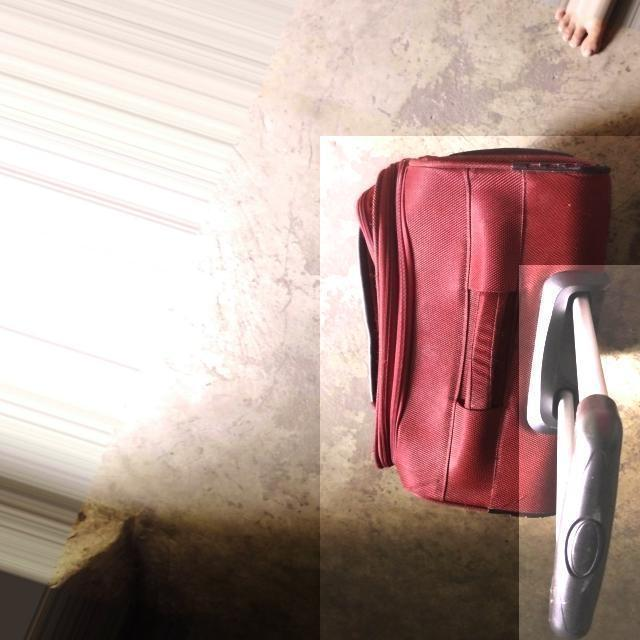Suitcase: (345, 132, 636, 640)
